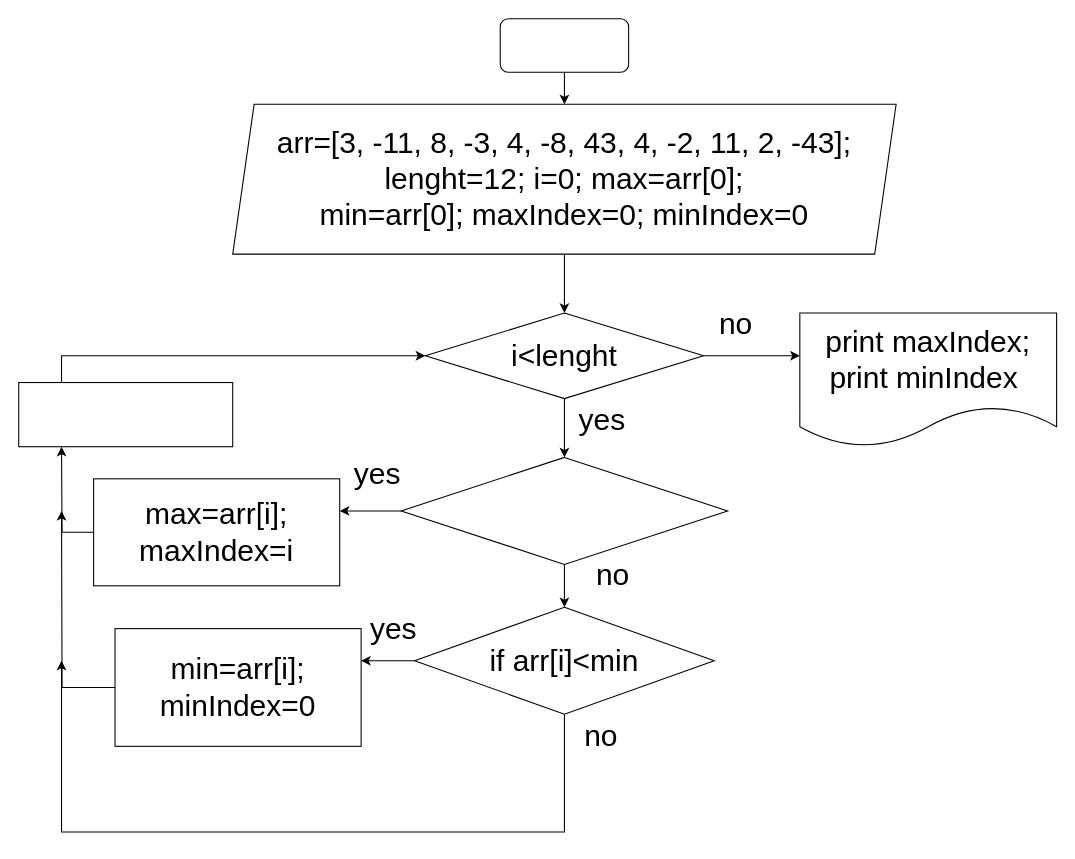
The diagram is 1075 pixels wide and 859 high, and some of its shapes have lost their labels. The shapes that lost their labels are listed below. From the top down, each one's box as (x1, y1, x2, y2) in pixels, then its label:
(499, 18, 629, 72): Start
(18, 381, 233, 447): i=i+1
(400, 456, 728, 564): if arr[i]>max
